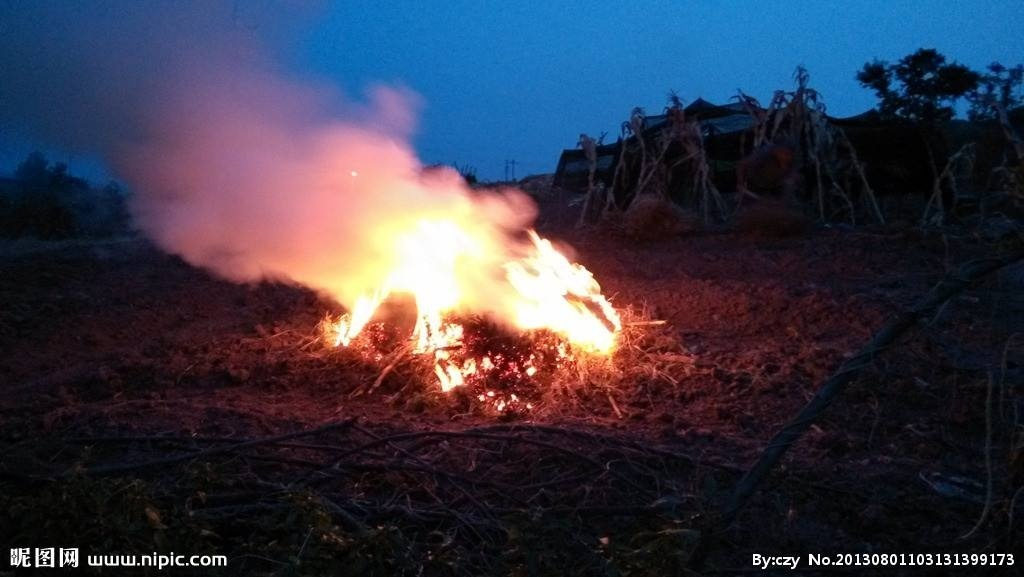fire: (318, 186, 627, 386)
